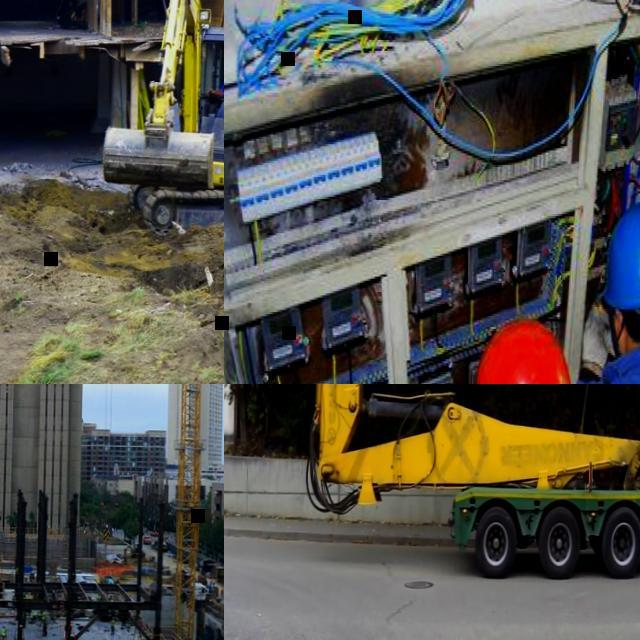helmet: (468, 318, 582, 384), (600, 201, 640, 312), (112, 616, 115, 618)
vest: (2, 628, 6, 636), (43, 616, 48, 622), (112, 620, 115, 626)
